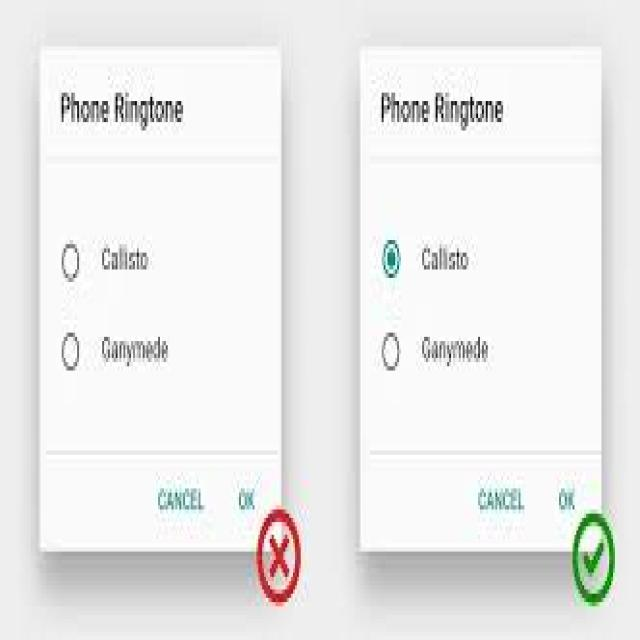buttons: (157, 482, 203, 519), (475, 486, 524, 516), (558, 481, 576, 513), (237, 488, 256, 513)
radio: (62, 327, 169, 378), (383, 330, 490, 379), (386, 231, 472, 286), (63, 243, 149, 282)
text: (59, 88, 186, 140), (374, 92, 506, 130)
